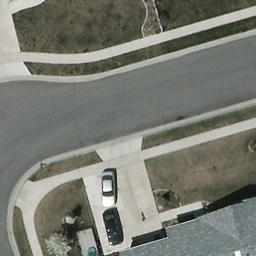car: (101, 210, 124, 245), (102, 170, 116, 209)
